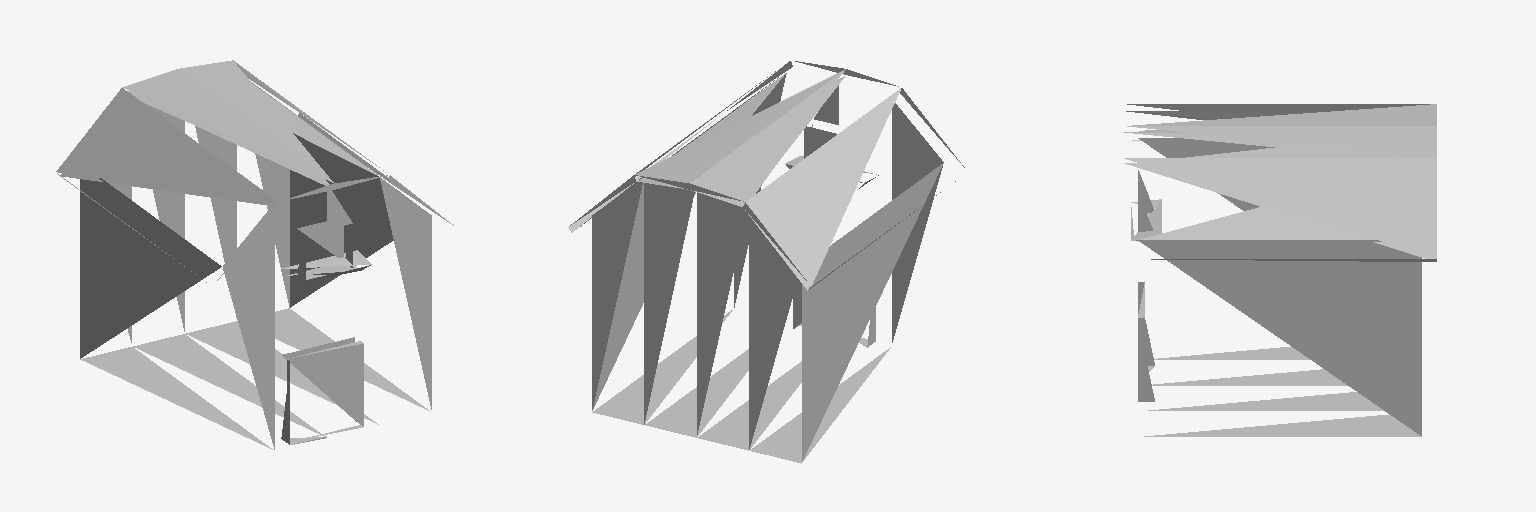
Rendered from barn.obj.
The picture shows the model from 3 angles: view 1: azimuth 30°, elevation 25°; view 2: azimuth 150°, elevation 25°; view 3: azimuth 270°, elevation 25°; orthographic projection.
Size of the model in its own units: 7.9 by 8.05 by 8.8.